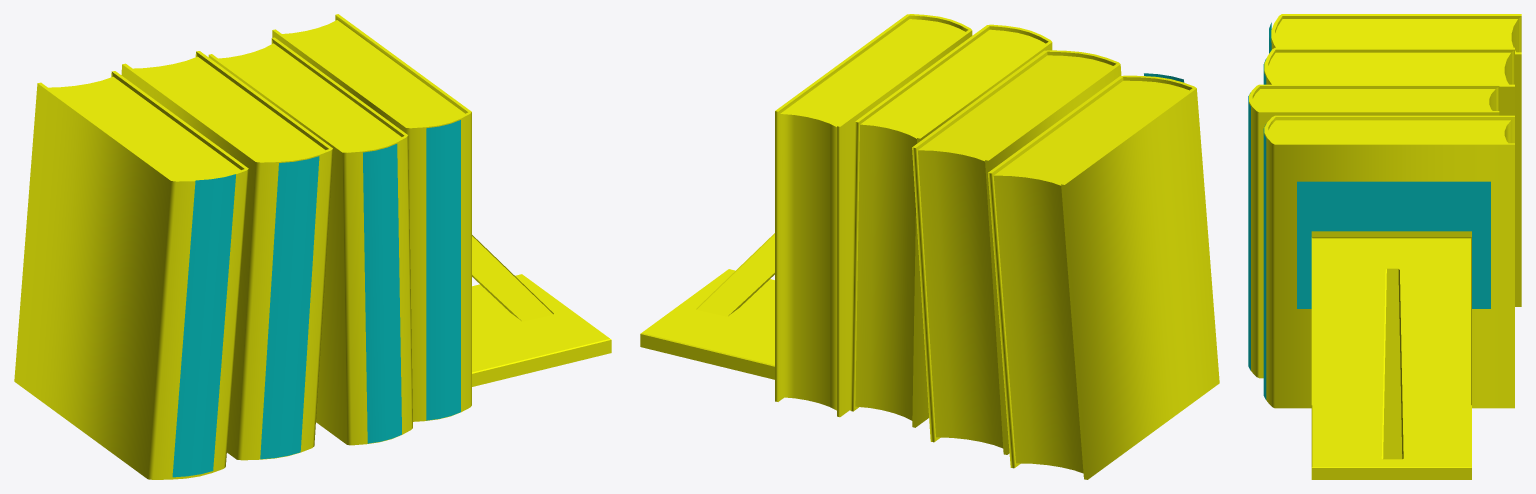
The model's file is o_books.FBX.
3 views of the same model, side by side, from view 1: azimuth 30°, elevation 25°; view 2: azimuth 150°, elevation 25°; view 3: azimuth 270°, elevation 25° (orthographic). The views are drawn at different scales.
Parts seen in each view (by area): view 1: book_4, book_3, book_2, book_1, wooden; view 2: book_4, book_3, book_1, book_2, wooden; view 3: book_1, wooden, book_2, book_4, book_3.
Boxes of the visible parts, <box> form: book_4: <box>14,71,248,479</box>; book_3: <box>121,51,333,460</box>; book_2: <box>208,37,412,445</box>; book_1: <box>272,14,471,421</box>; wooden: <box>472,235,611,386</box>; book_4: <box>988,73,1219,479</box>; book_3: <box>912,50,1121,454</box>; book_1: <box>775,14,972,417</box>; book_2: <box>850,24,1052,427</box>; wooden: <box>640,233,774,379</box>; book_1: <box>1263,115,1514,408</box>; wooden: <box>1311,231,1471,479</box>; book_2: <box>1248,84,1499,378</box>; book_4: <box>1269,14,1521,306</box>; book_3: <box>1263,47,1514,115</box>.
Size of the model in its own units: 28.63 by 15.72 by 17.17.
